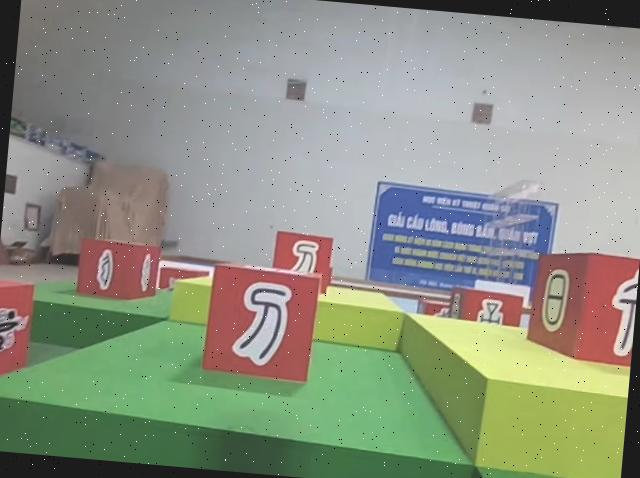R1: (0, 275, 35, 397)
R2 Fake: (203, 261, 320, 384), (525, 248, 640, 370), (270, 230, 332, 292)
R2 Real: (75, 235, 162, 307), (444, 286, 523, 335)
